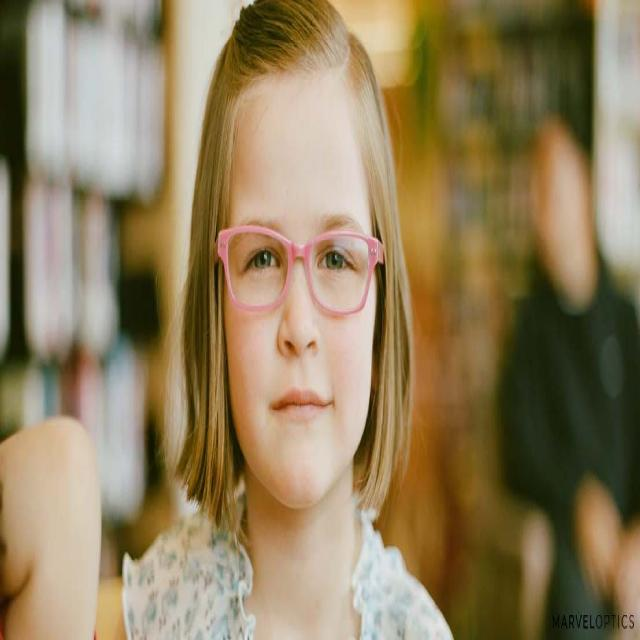Glasses: (216, 219, 384, 323)
